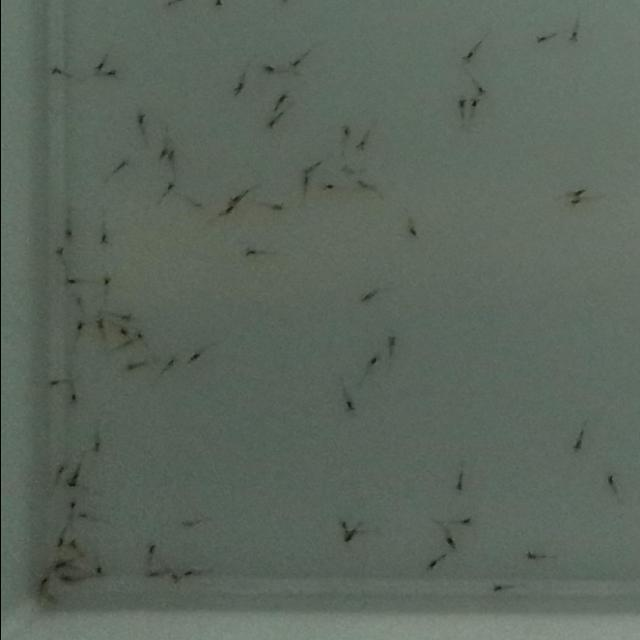shrimp-seed: (358, 288, 378, 302), (34, 576, 50, 592), (228, 190, 244, 206), (66, 536, 80, 554), (51, 535, 66, 551), (59, 573, 74, 587), (52, 559, 67, 573), (74, 509, 88, 524), (90, 563, 104, 577), (53, 464, 67, 478), (134, 112, 148, 126), (146, 567, 160, 581), (178, 516, 192, 530), (270, 200, 284, 214), (459, 51, 474, 64), (319, 180, 335, 192), (68, 392, 80, 407), (342, 400, 357, 412), (46, 376, 58, 390), (142, 545, 156, 557), (181, 566, 195, 578), (132, 331, 146, 343), (231, 83, 243, 97), (352, 140, 364, 154), (74, 319, 86, 332), (92, 318, 104, 331), (115, 158, 128, 170), (187, 352, 200, 364), (368, 353, 380, 366), (65, 479, 77, 491), (89, 442, 101, 454), (62, 275, 74, 287), (62, 226, 74, 238), (92, 61, 104, 73), (168, 573, 180, 585), (120, 311, 132, 323), (71, 294, 83, 306), (265, 119, 277, 131), (276, 92, 288, 104), (406, 227, 418, 239), (454, 98, 466, 110), (443, 538, 455, 550), (570, 439, 582, 451), (603, 475, 615, 487), (104, 68, 118, 78), (356, 179, 370, 189), (100, 276, 111, 288), (97, 234, 108, 246), (125, 361, 136, 373), (116, 327, 127, 339), (163, 357, 174, 369), (288, 58, 300, 69), (384, 336, 395, 348), (476, 85, 488, 96), (340, 125, 350, 138), (524, 552, 538, 561), (453, 480, 464, 491), (72, 472, 82, 484), (48, 66, 60, 76), (66, 500, 78, 510), (164, 182, 176, 192), (166, 148, 176, 160), (262, 64, 274, 74), (244, 246, 256, 256), (534, 34, 546, 44), (566, 32, 578, 42), (491, 584, 504, 593), (210, 0, 224, 8), (468, 97, 479, 107), (53, 248, 63, 258), (343, 534, 353, 544), (426, 560, 436, 570), (460, 517, 470, 527), (312, 159, 324, 167), (568, 198, 580, 206), (572, 188, 584, 196), (157, 147, 165, 158), (221, 208, 231, 216), (301, 176, 309, 186), (338, 520, 348, 528)
